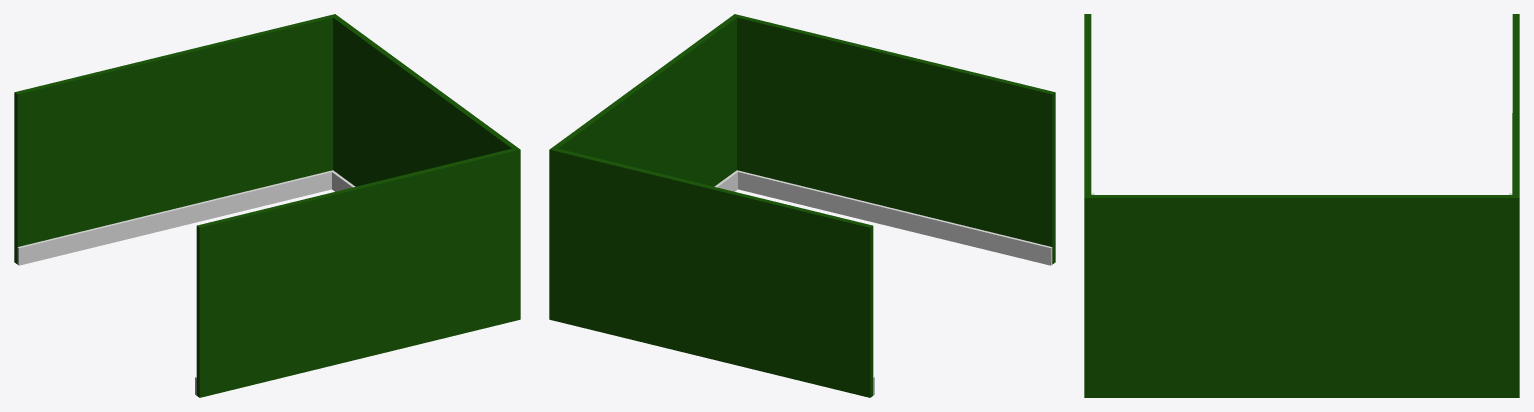
File: JammyWallTest.glb
The picture shows the model from 3 angles, left to right: view 1: azimuth 30°, elevation 25°; view 2: azimuth 150°, elevation 25°; view 3: azimuth 270°, elevation 25°; orthographic projection. The views are drawn at different scales.
Parts seen in each view (by area): view 1: RightWall, LeftWall, FrontWall; view 2: LeftWall, RightWall, FrontWall; view 3: FrontWall, LeftWall, RightWall.
Part boxes in pixels (x1,y1,x2,y2): RightWall: (195,147,520,397); LeftWall: (14,14,336,265); FrontWall: (330,14,520,204); LeftWall: (549,147,874,397); RightWall: (732,14,1055,265); FrontWall: (549,14,739,223); FrontWall: (1084,195,1519,397); LeftWall: (1509,14,1519,197); RightWall: (1084,14,1094,197).
Bounding box in the file's own units: 31.54 × 15.98 × 31.54.
